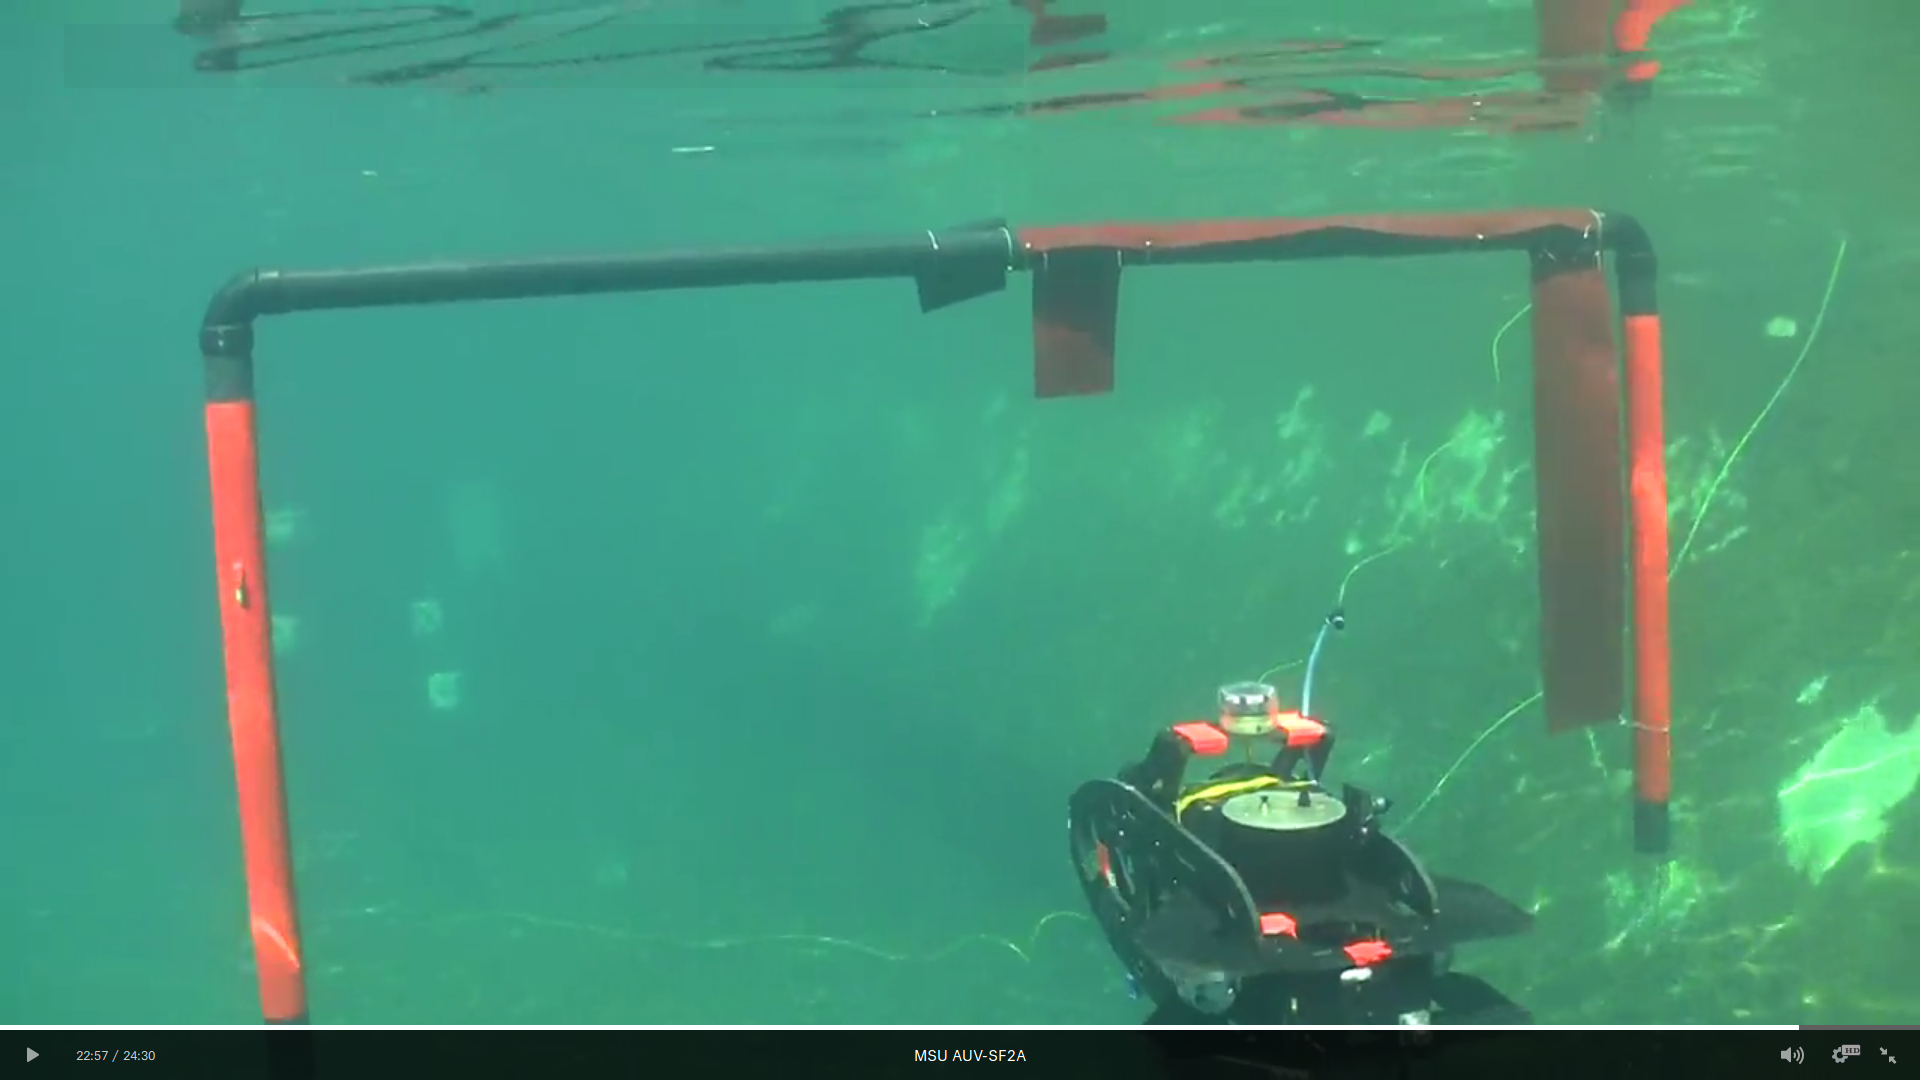gate: (192, 196, 1692, 791)
